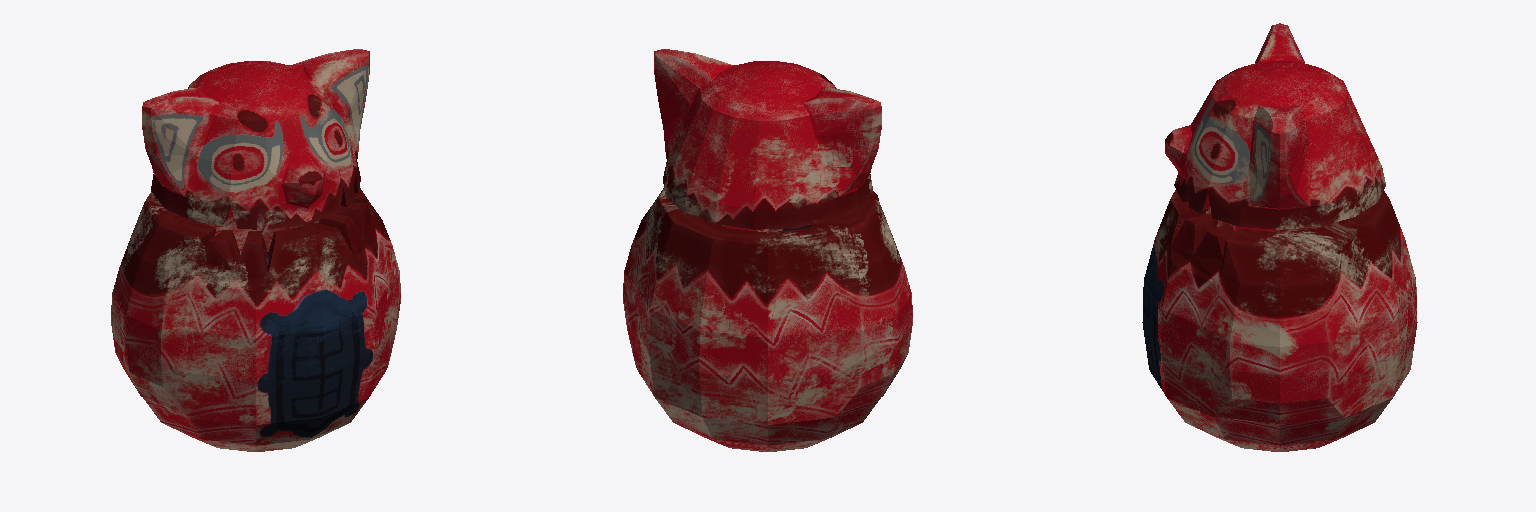
3 views of the same model, side by side, from view 1: azimuth 30°, elevation 25°; view 2: azimuth 150°, elevation 25°; view 3: azimuth 270°, elevation 25° (orthographic).
Parts seen in each view (by area): view 1: totem_red; view 2: totem_red; view 3: totem_red.
Part boxes in pixels (bbox=[...]): totem_red: bbox=[111, 49, 400, 451]; totem_red: bbox=[623, 49, 912, 451]; totem_red: bbox=[1142, 23, 1417, 451].
Size of the model in its own units: 291 by 391 by 267.
1 materials, 1 textured.